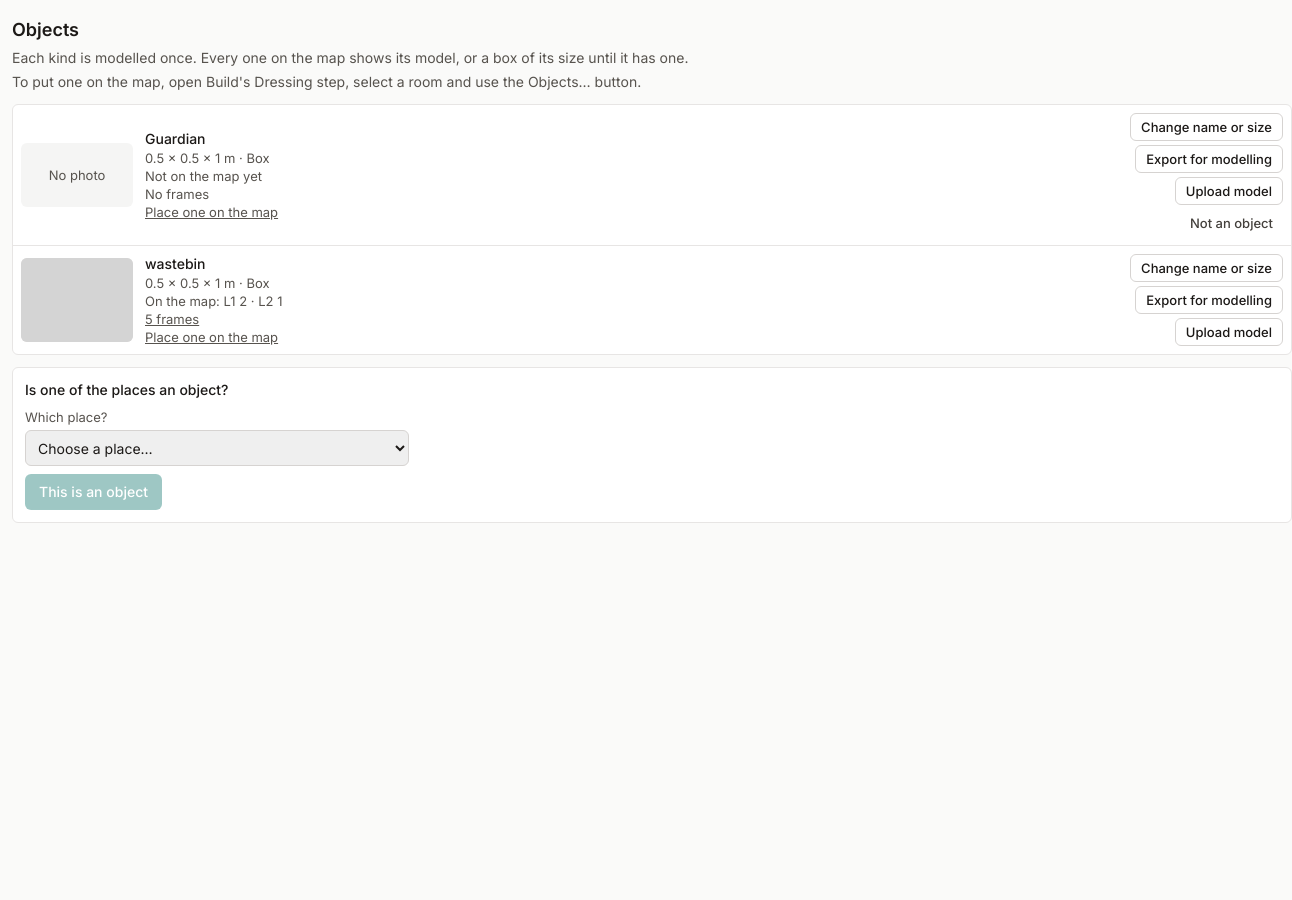
Scenario: ObjectsSection › refuses a blank size on the form, with the reason, and sends nothing
Select "water cooler" in the dropdown labelled "Which place?" at (217, 448), box [25, 430, 409, 466]
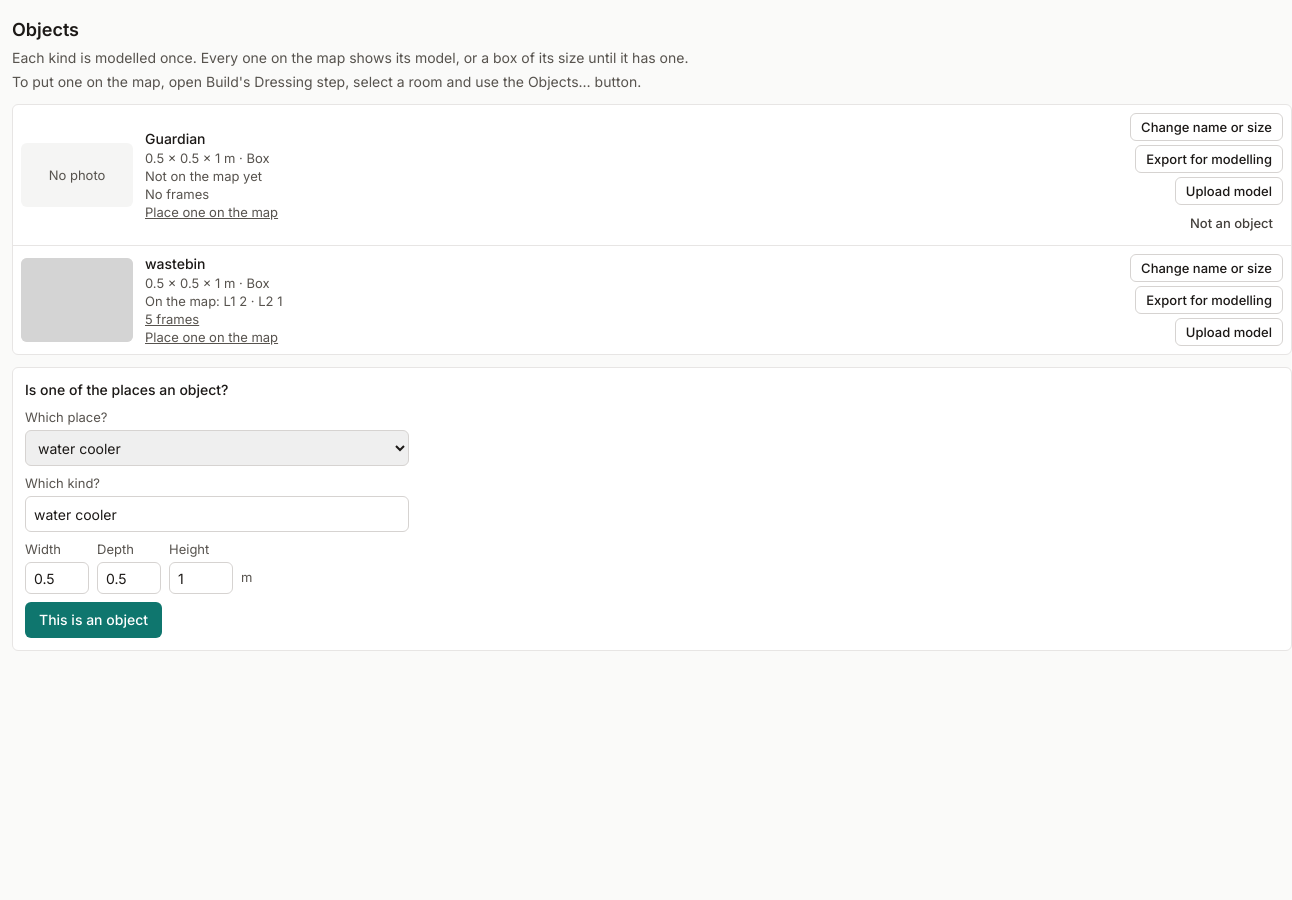
Clear the field named "Height in metres" at (201, 578), box [169, 562, 233, 594]
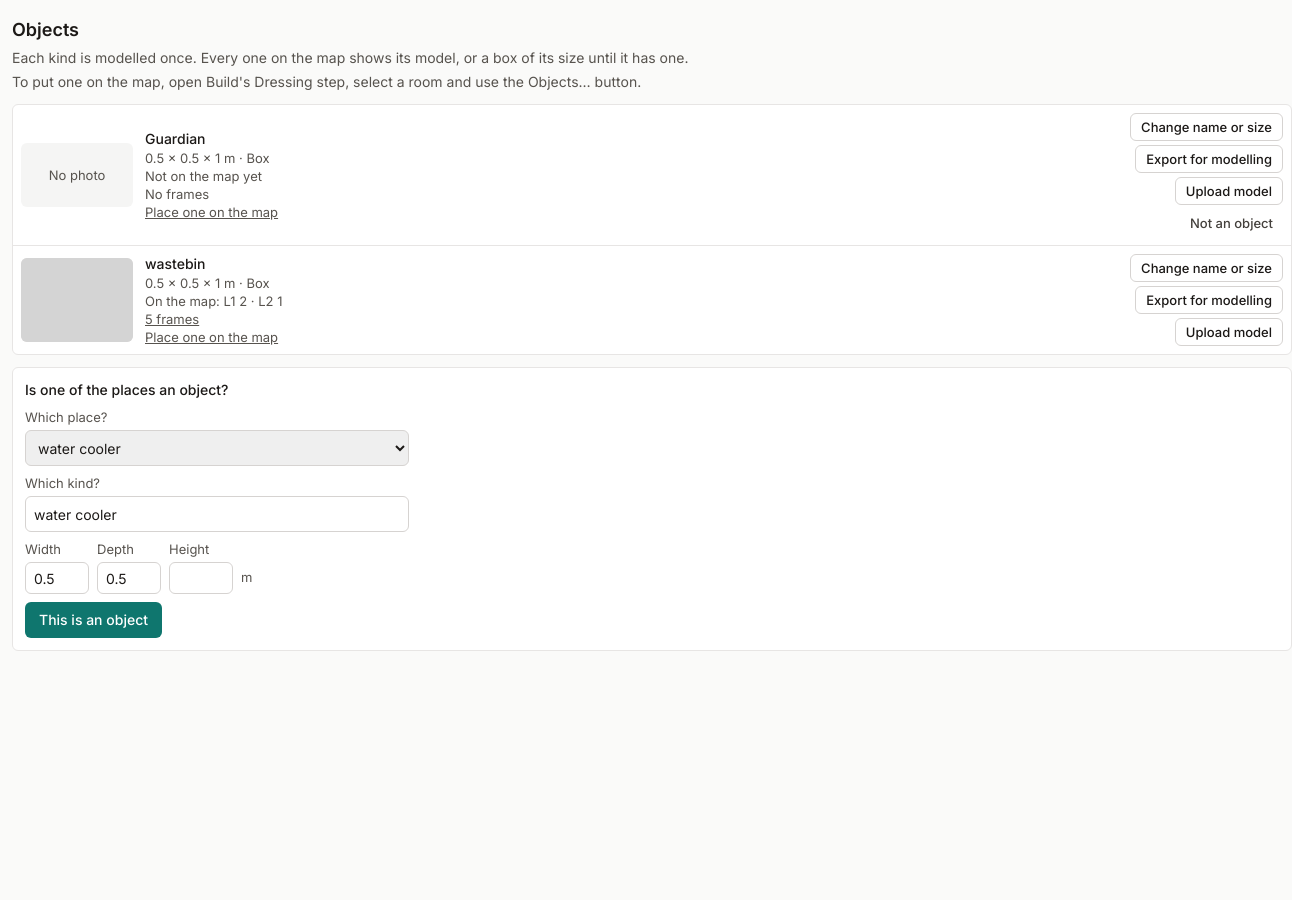
Click the button "This is an object" at (94, 620), box [25, 602, 162, 638]
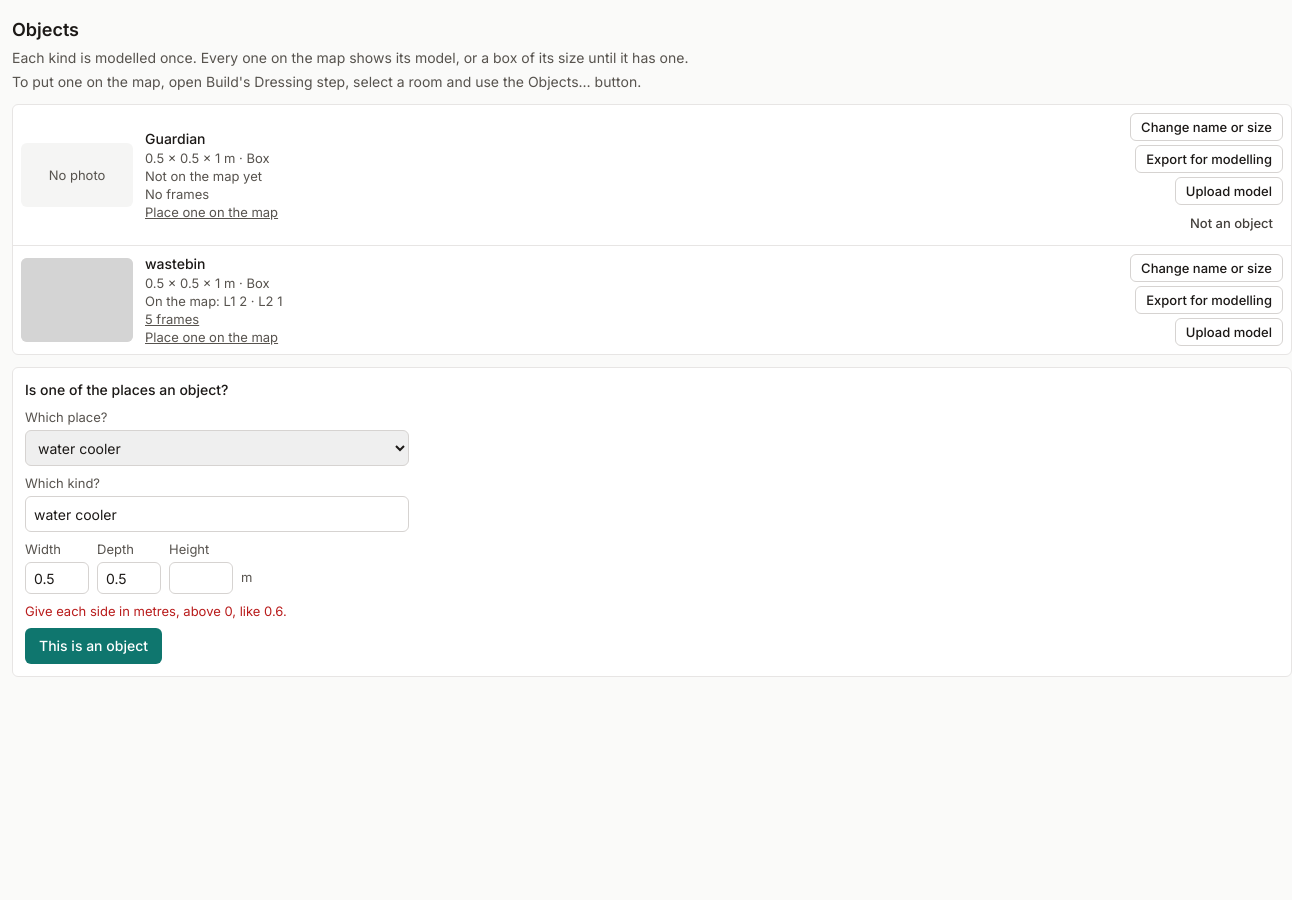
Check: the message reads "Give each side in metres, above 0, like 0.6.", box [25, 603, 287, 619]
